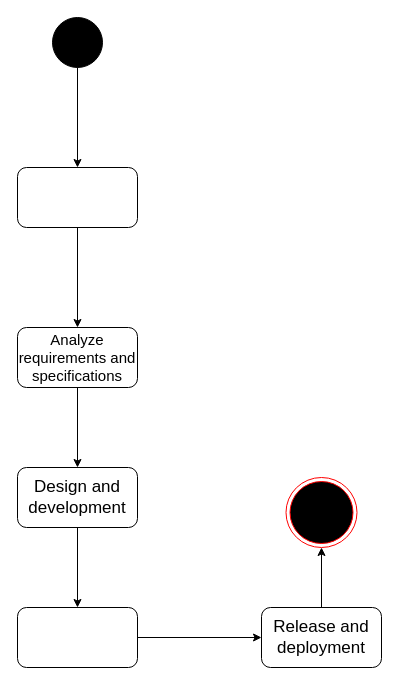
The diagram is 399 pixels wide and 685 high, and some of its shapes have lost their labels. The box of each missing label's shape, as (x1, y1, x2, y2) in pixels:
Start project: (16, 166, 138, 228)
Testing and debugging: (16, 606, 138, 668)
